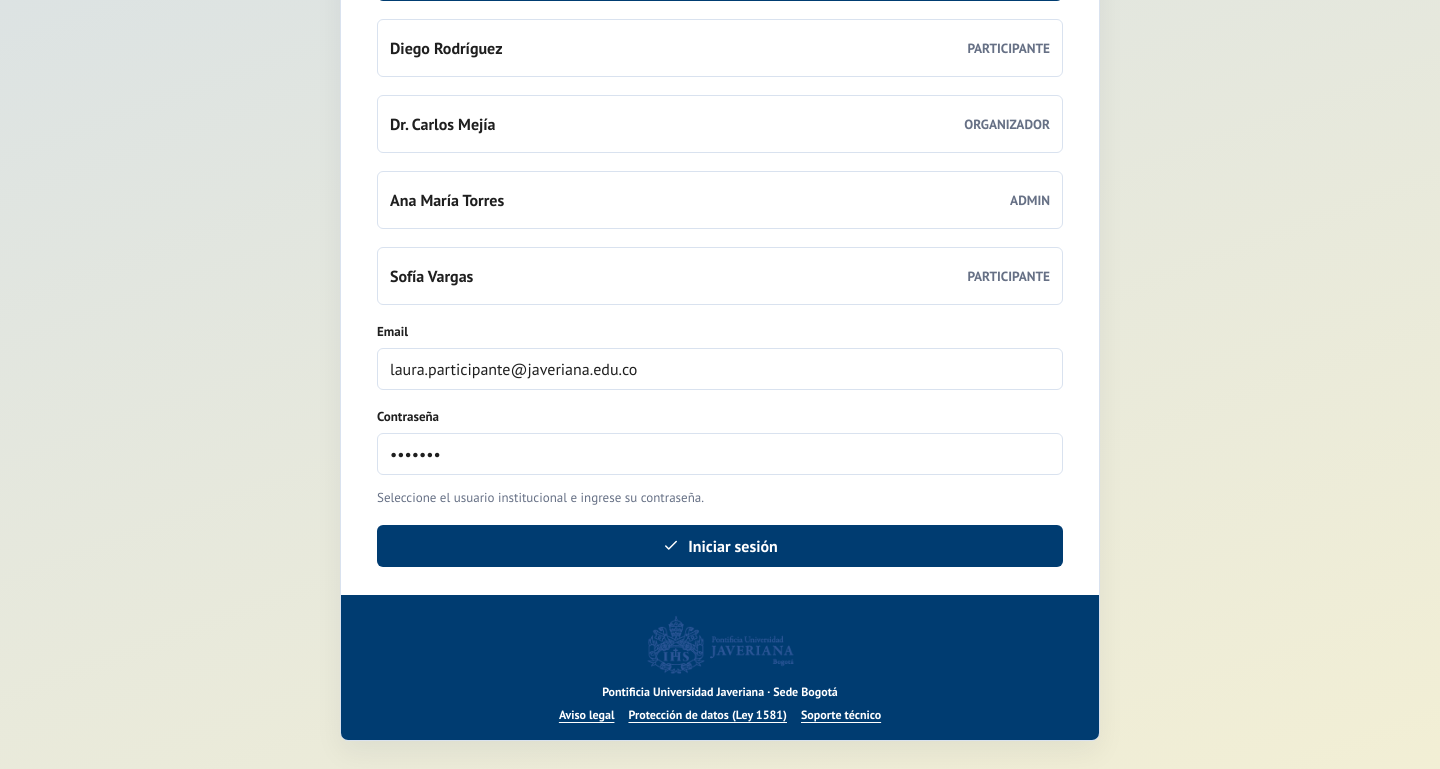
Test: LoginPage › debe mostrar error con credenciales invalidas
(page scrolled)
Replace the text in the field labelled "Email" with "falso@javeriana.edu.co": (720, 369) 377,348 -> 1063,390
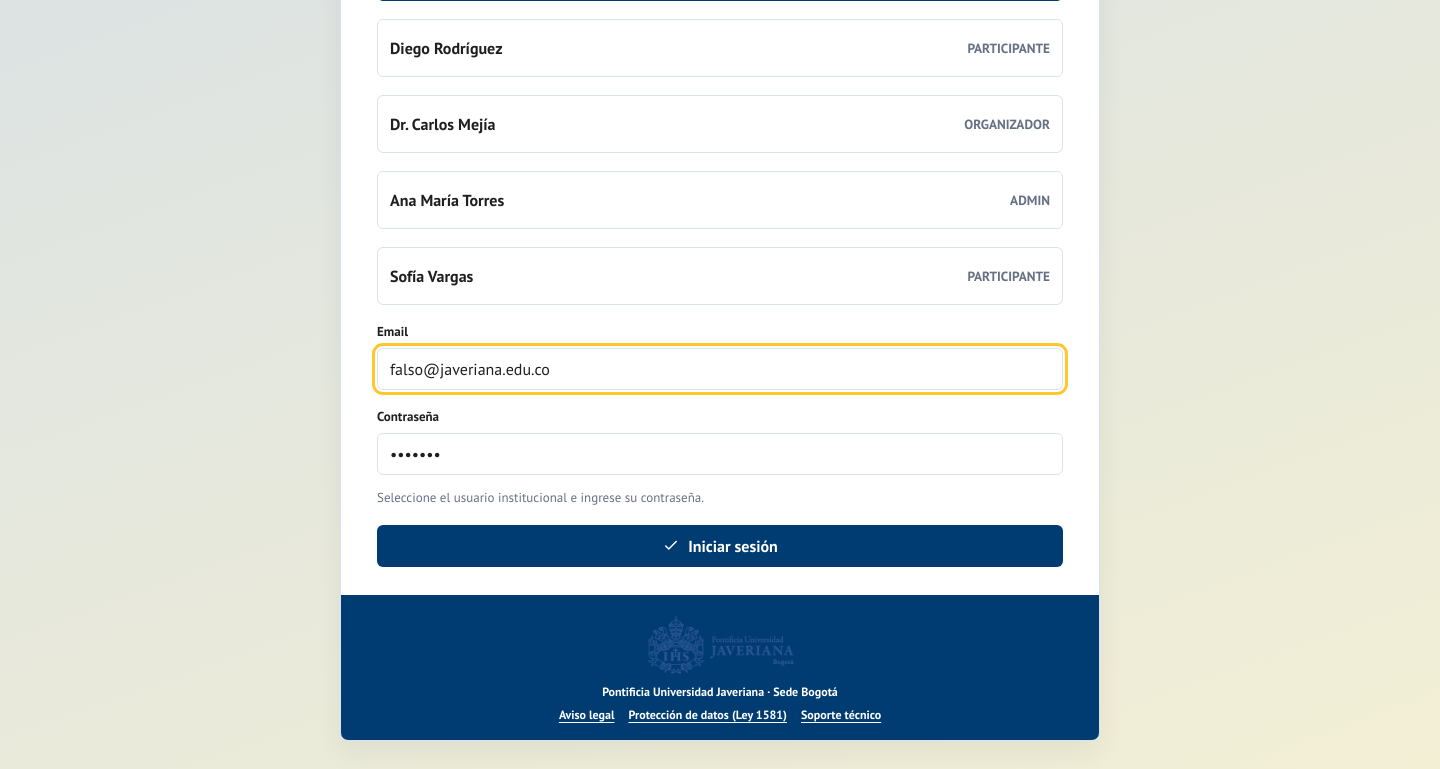
In the password field labelled "Contraseña": (720, 454) 377,433 -> 1063,475, type "wrong123"
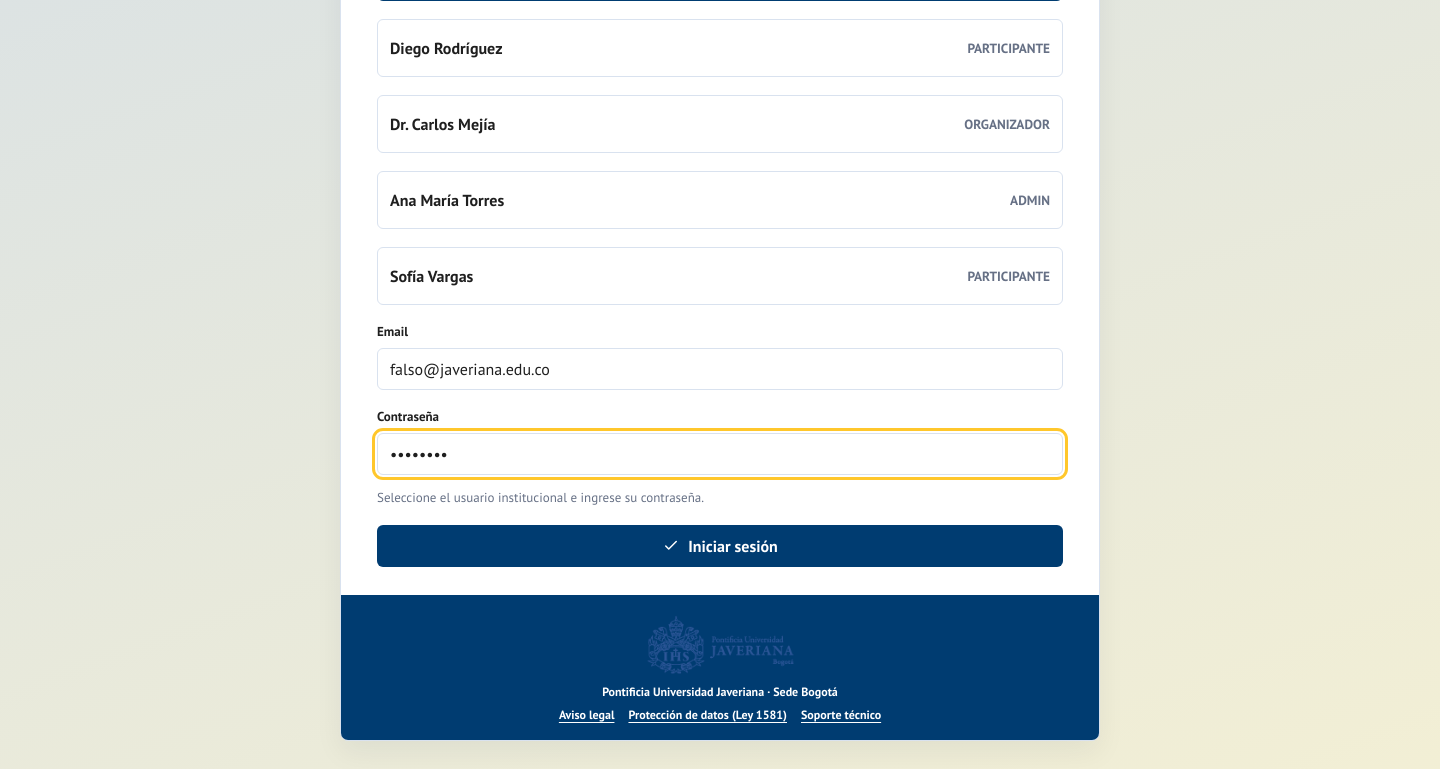
Click the button "Iniciar sesión": (720, 546) 377,525 -> 1063,567
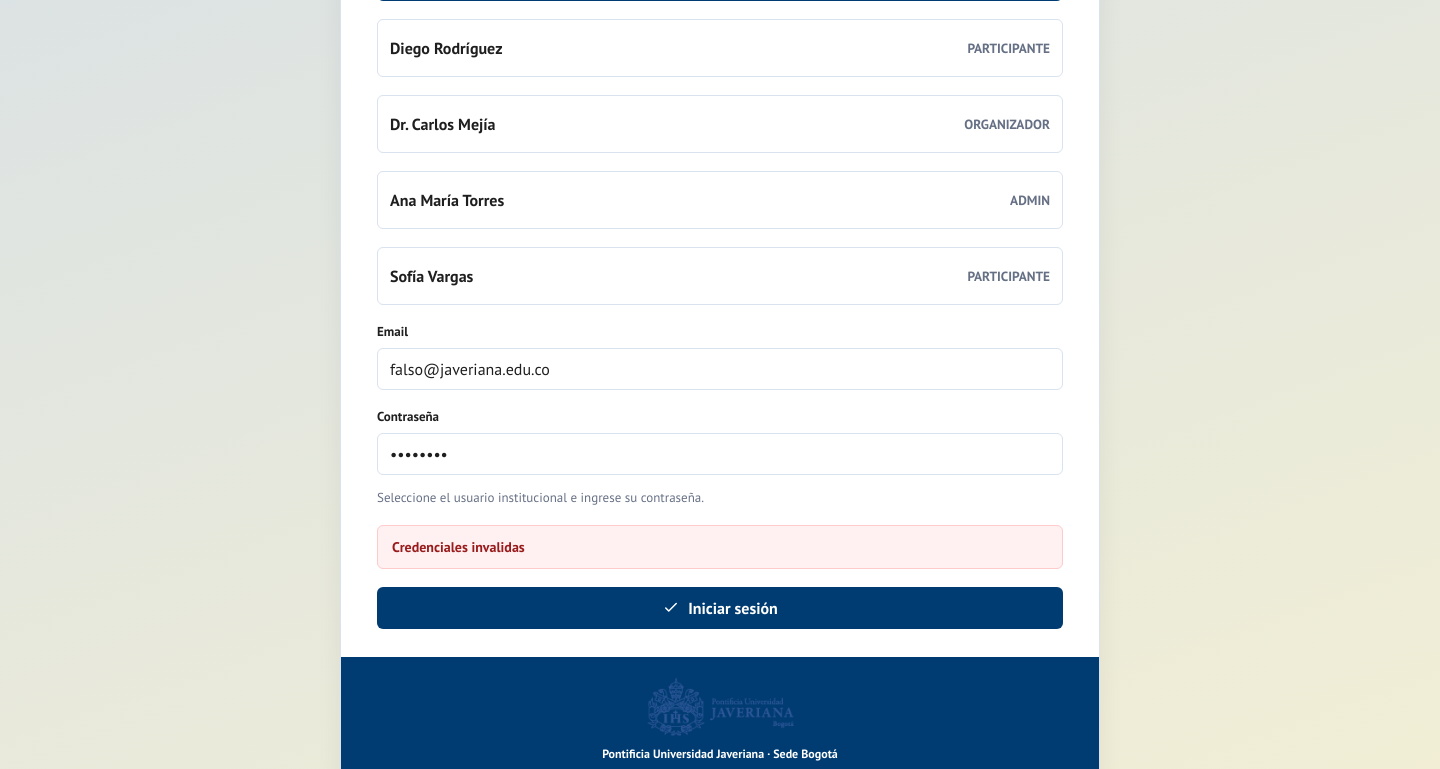
Now the text "Credenciales invalidas" is shown, box 377,525 -> 1063,569
